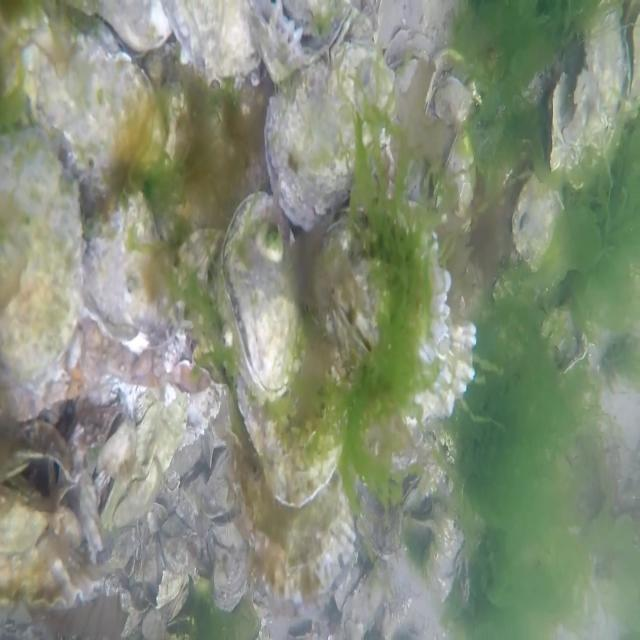Oyster-Closed: (0, 139, 78, 422), (44, 34, 171, 174), (218, 183, 300, 396), (81, 184, 180, 347), (265, 68, 358, 222), (508, 180, 557, 273)
Oyster-Indeterminate: (232, 504, 356, 608), (306, 203, 386, 364), (234, 402, 348, 506), (283, 0, 389, 71), (202, 0, 292, 67)
